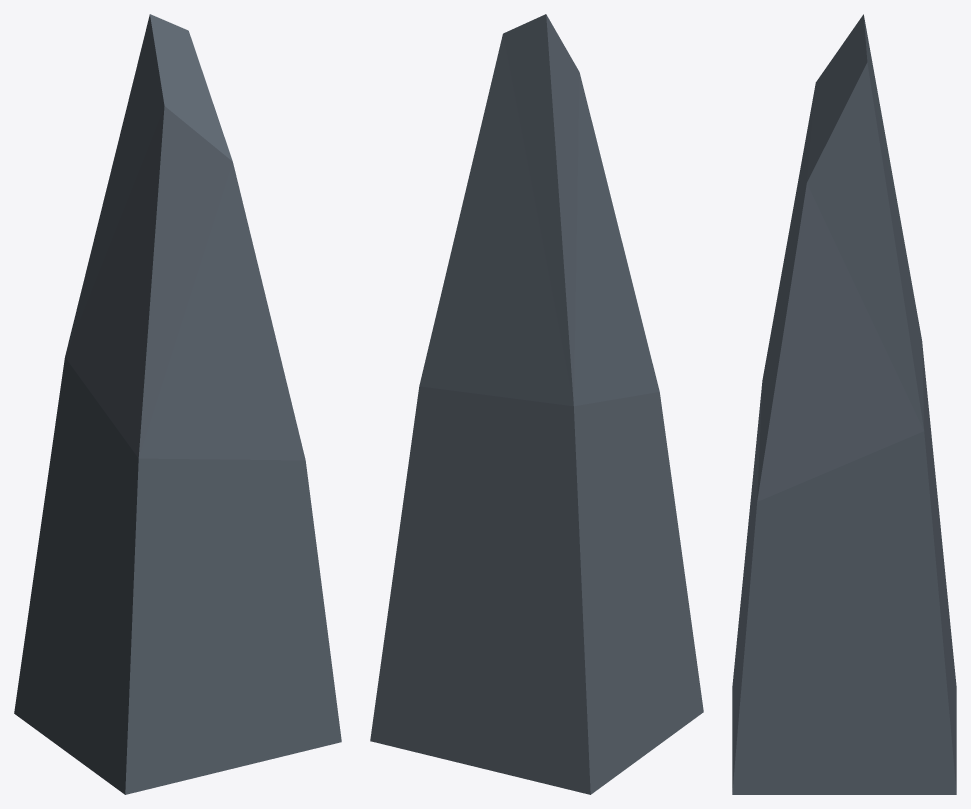
Rendered from Rock_Sharp_s_06.fbx.
3 renders of one model, left to right at view 1: azimuth 30°, elevation 25°; view 2: azimuth 150°, elevation 25°; view 3: azimuth 270°, elevation 25°, orthographic.
Parts seen in each view (by area): view 1: Rock_Sharp_s_06; view 2: Rock_Sharp_s_06; view 3: Rock_Sharp_s_06.
Boxes of the visible parts, x1,y1,x2,y2 form: Rock_Sharp_s_06: [14, 14, 341, 794]; Rock_Sharp_s_06: [370, 14, 703, 794]; Rock_Sharp_s_06: [732, 14, 956, 794].
Size of the model in its own units: 21.95 by 68.91 by 19.51.
